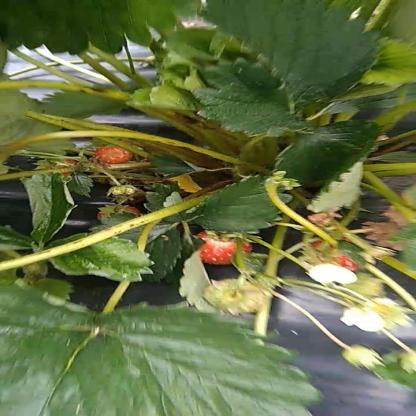ripe: (304, 236, 376, 278), (190, 228, 253, 266), (36, 156, 83, 178), (99, 205, 137, 229), (90, 143, 135, 163)
